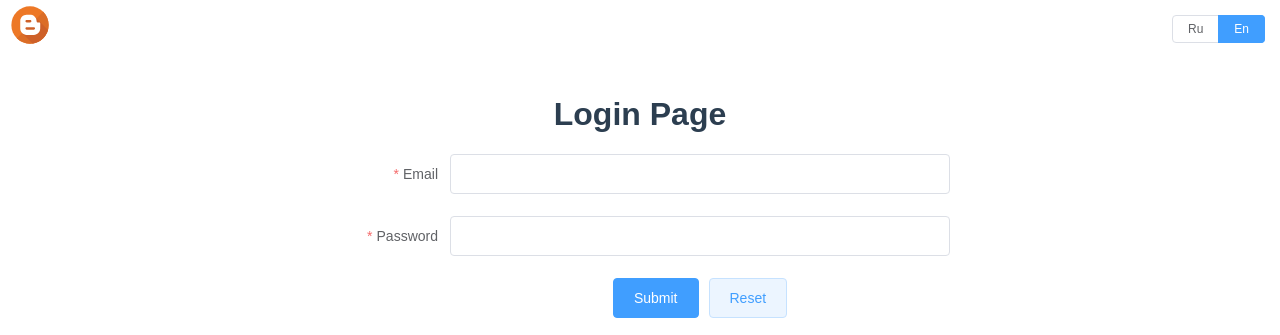
it: Test login page › Test validation
The width and height of the screenshot is (1280, 335).
In the field with test id "email": (700,174) left=450, top=154, right=950, bottom=194, type "He"
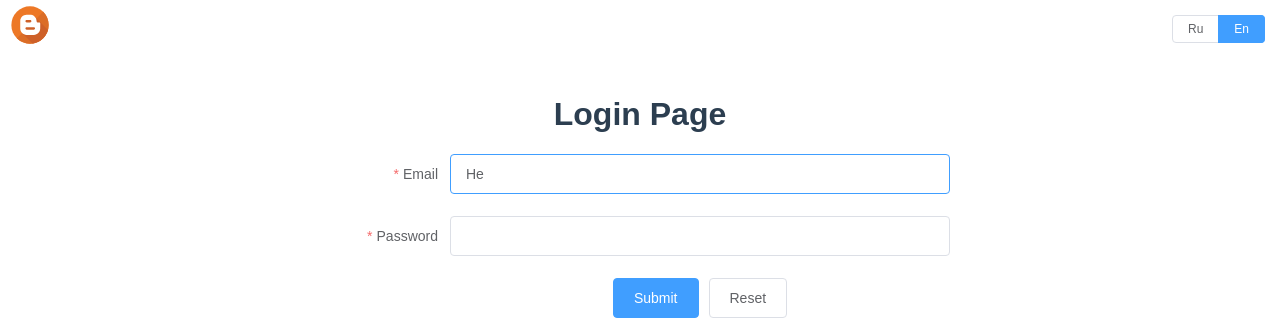
Leave the field with test id "email", box left=450, top=154, right=950, bottom=194
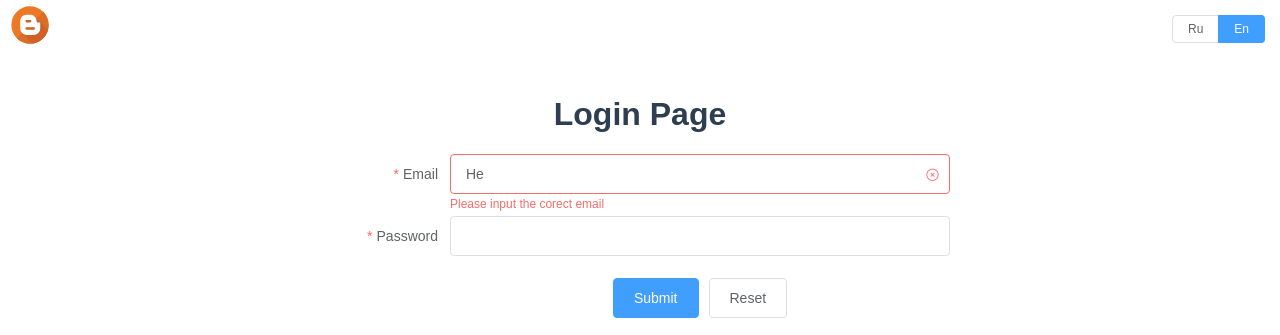
Check: the text "Please input the corect email" is shown, box left=450, top=194, right=604, bottom=210
